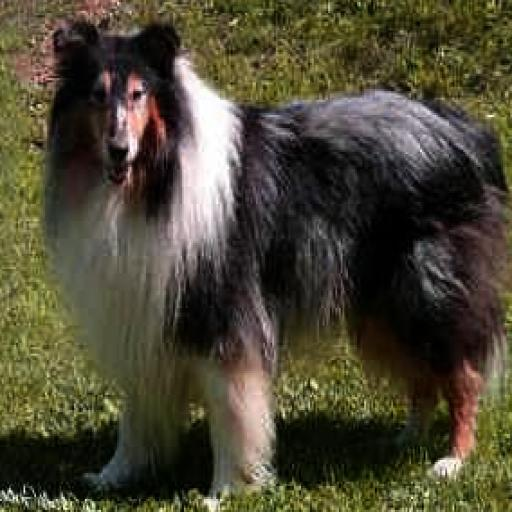dog_face: (50, 10, 176, 183)
